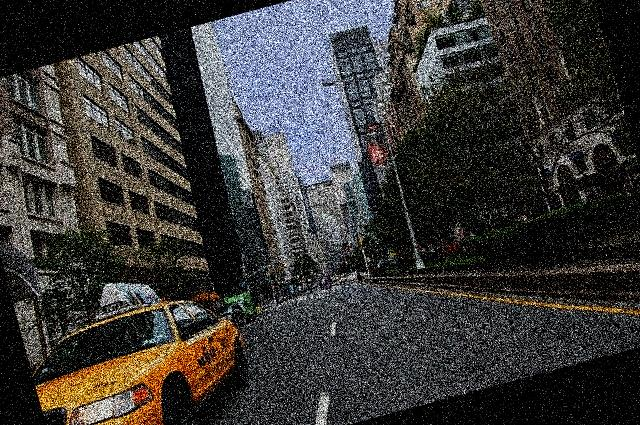taxi: (21, 297, 244, 425)
